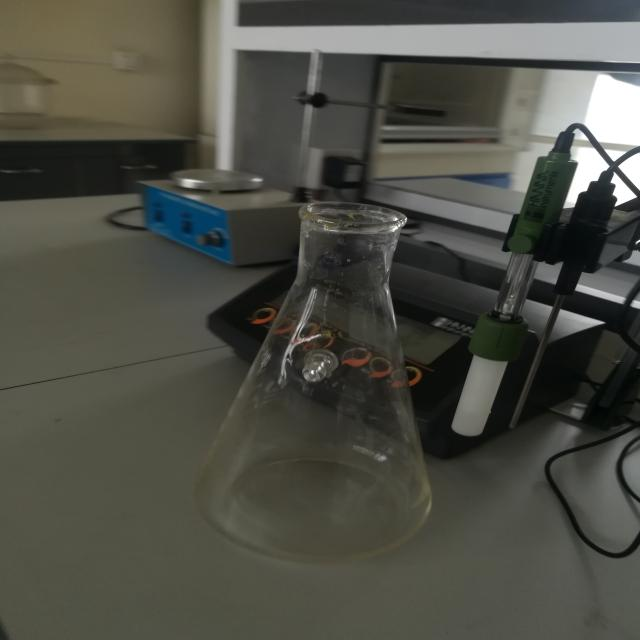Conical_Flask: (186, 163, 464, 582)
